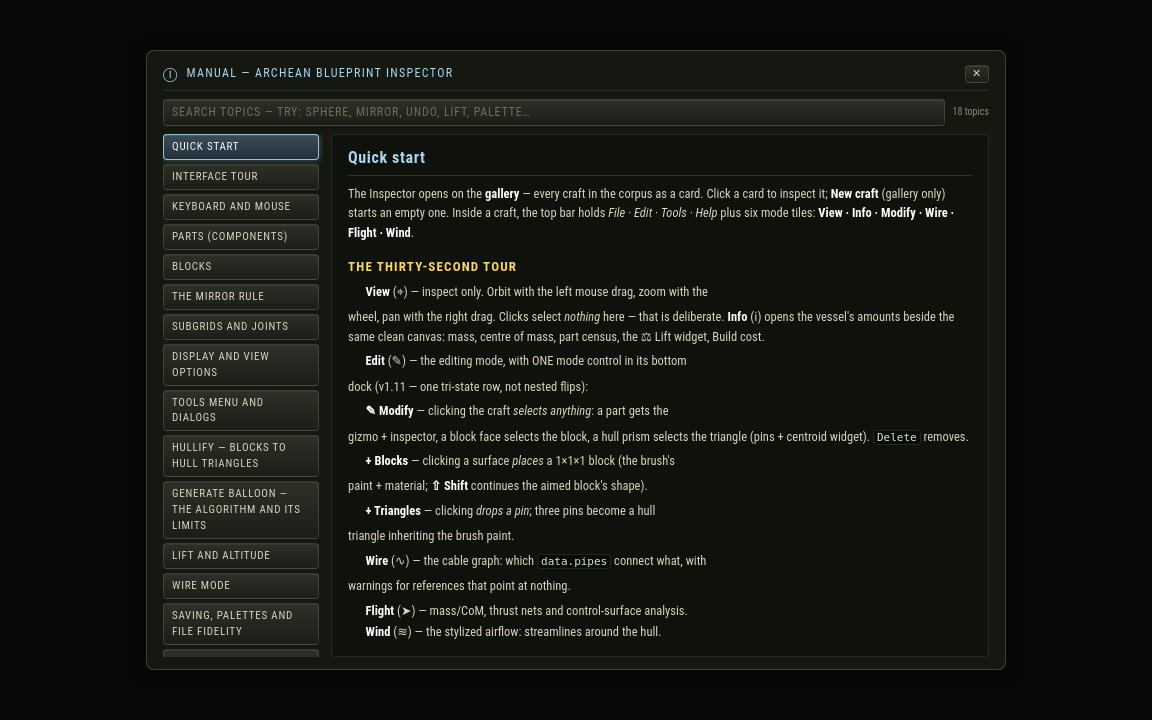
Test case: HelpDialog — rail + article (the browser legs retired) › selecting a topic swaps the article
Click the button with test id "help-topic-balloon".
click(241, 510)  # box [163,481,319,539]
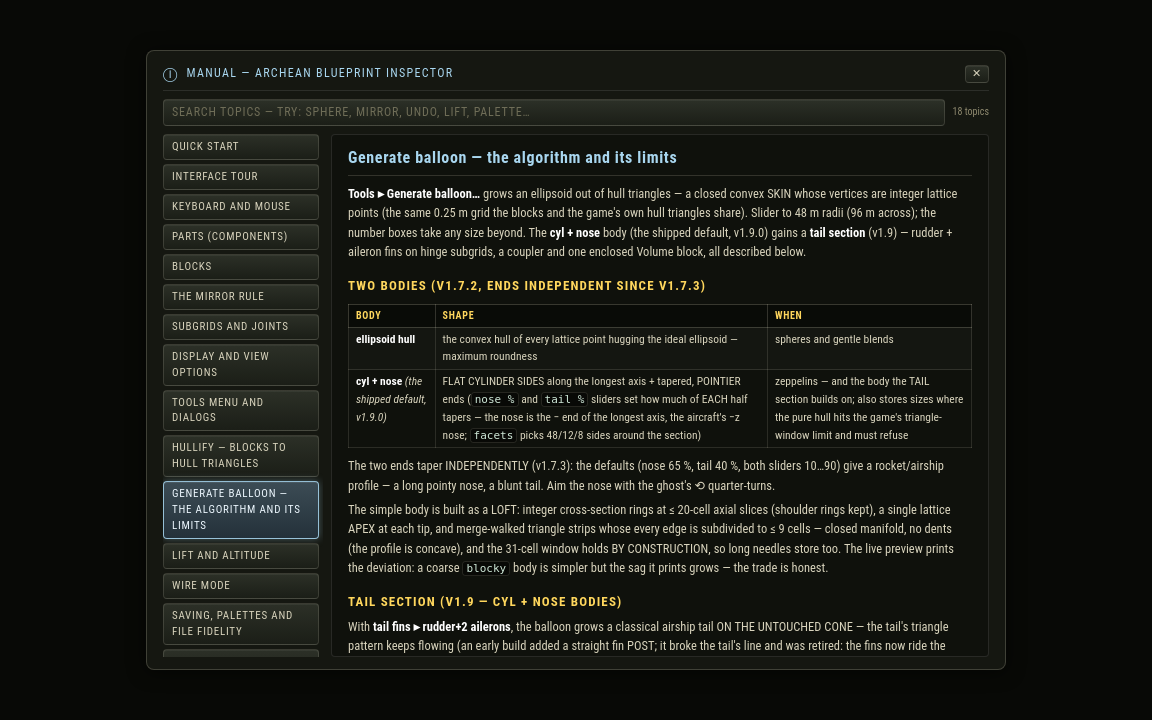
Now the element with test id "help-article" shows "Generate balloon — the algorithm and its limits", box [348,148,677,167]
